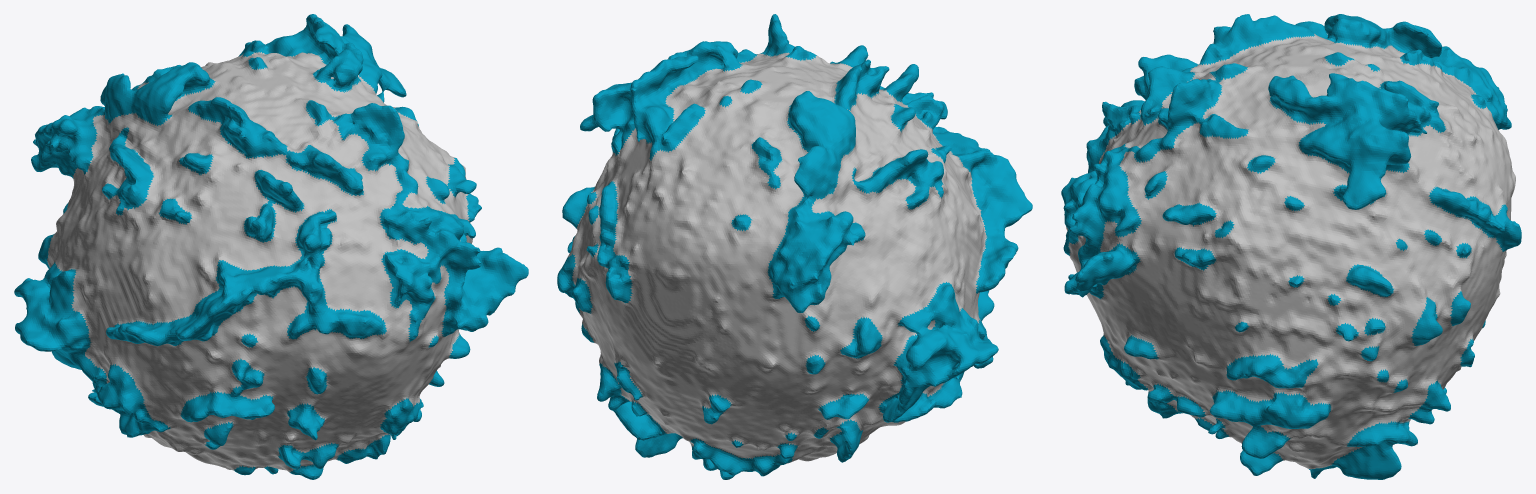
3 views of the same model, side by side, from view 1: azimuth 30°, elevation 25°; view 2: azimuth 150°, elevation 25°; view 3: azimuth 270°, elevation 25° (orthographic).
Size of the model in its own units: 165 by 152 by 156.
